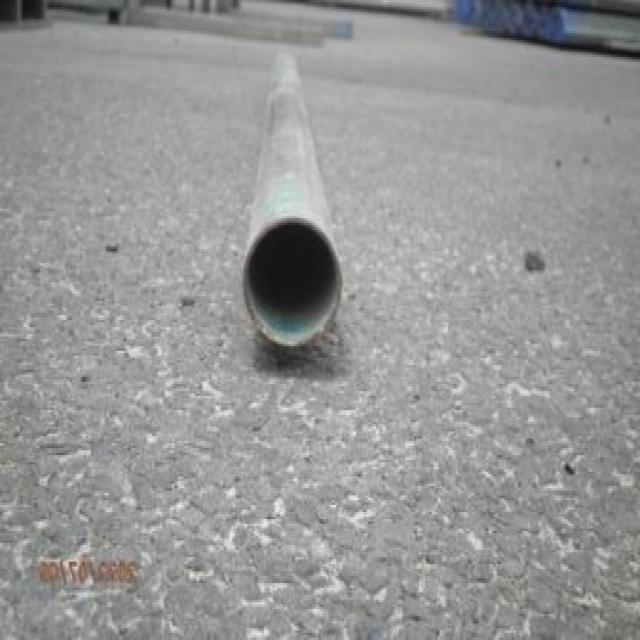pipe: (243, 214, 341, 349)
